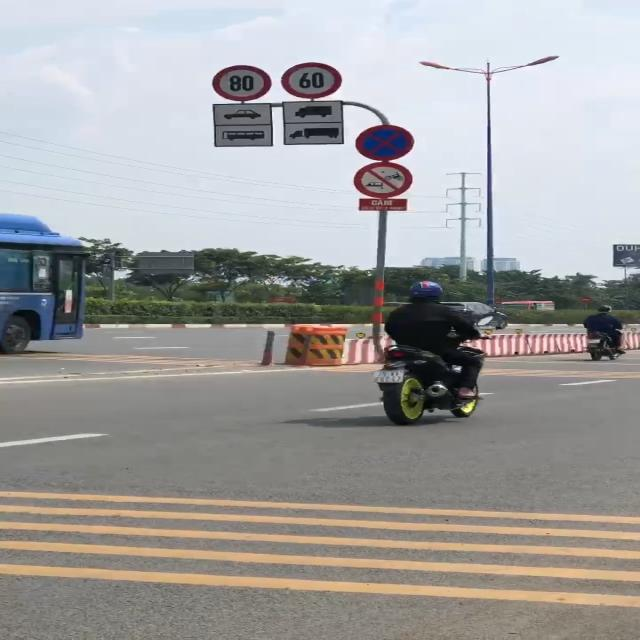Bien bao cam dung xe va do xe: (353, 121, 420, 162)
Bien bao toc do toi da cho phep: (277, 57, 346, 101), (208, 61, 277, 102)
